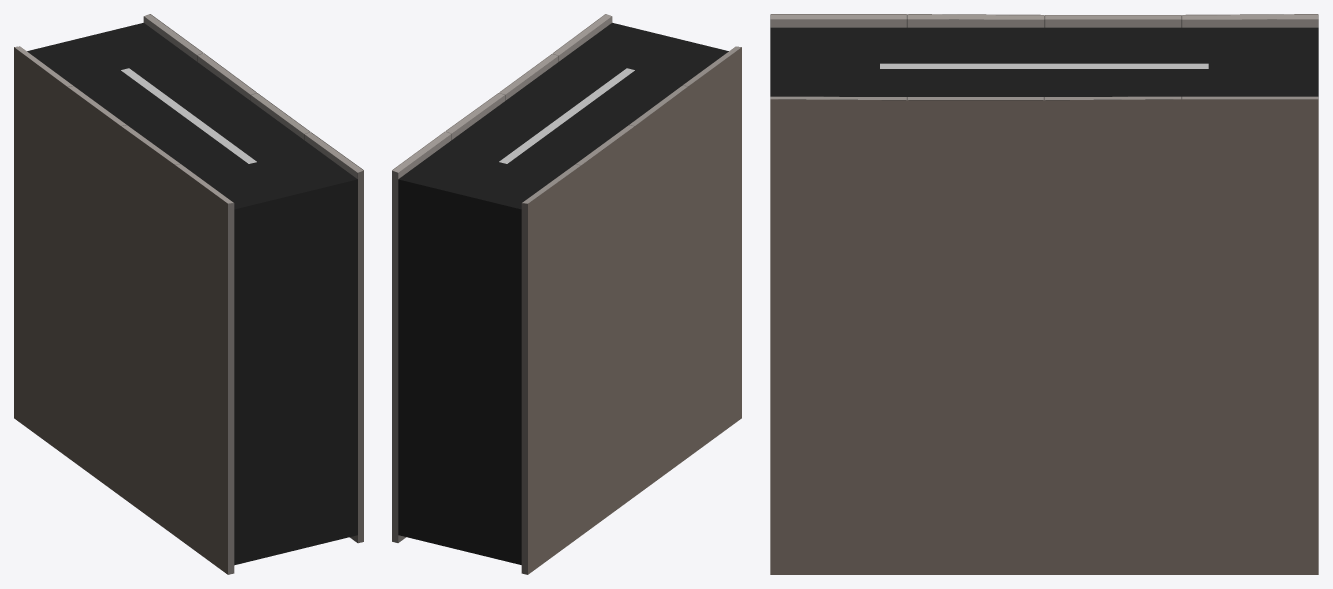
Rendered from street_cut.glb.
3 views of the same model, side by side, from view 1: azimuth 30°, elevation 25°; view 2: azimuth 150°, elevation 25°; view 3: azimuth 270°, elevation 25° (orthographic). The views are drawn at different scales.
Visible parts, largest first — view 1: Cube.004, Cube.043, Cube.036; view 2: Cube.004, Cube.043, Cube.036; view 3: Cube.036, Cube.043, Cube.004.
Part boxes in pixels (<box>): Cube.004: <box>14,46,234,574</box>; Cube.043: <box>27,22,357,565</box>; Cube.036: <box>143,14,363,543</box>; Cube.004: <box>521,46,741,574</box>; Cube.043: <box>398,22,728,564</box>; Cube.036: <box>392,14,612,542</box>; Cube.036: <box>770,96,1318,574</box>; Cube.043: <box>770,27,1318,96</box>; Cube.004: <box>770,14,1318,27</box>.
Bounding box in the file's own units: 22.08 × 57.44 × 60.02.
Materials: 10 (1 with a texture image).
